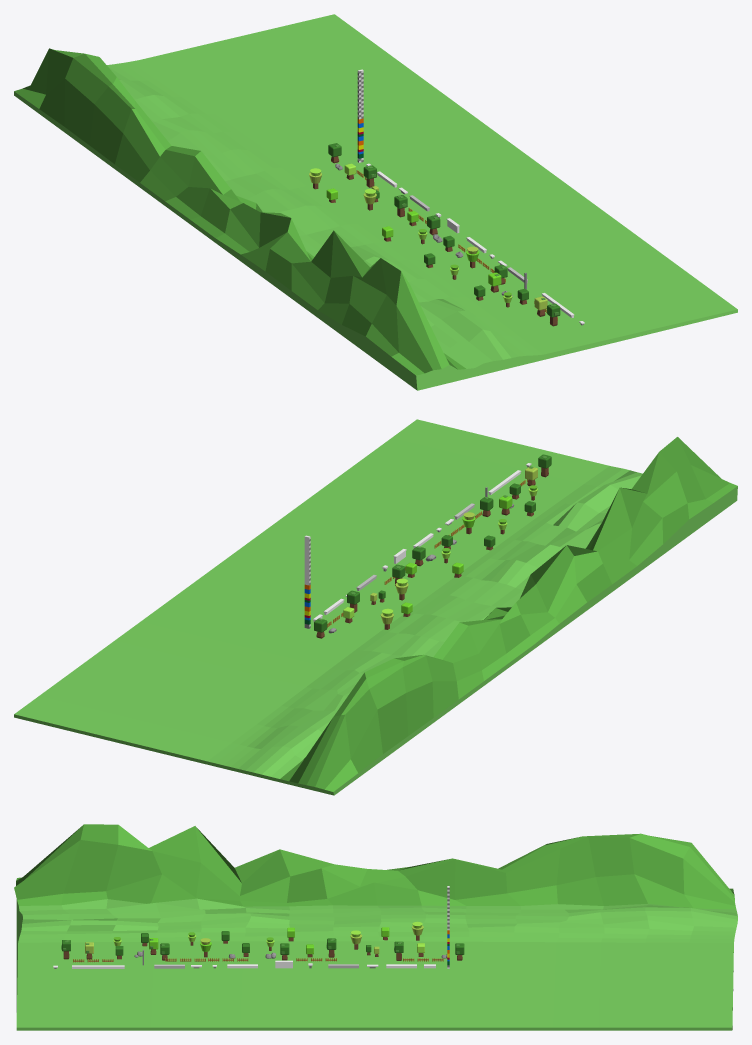
Rendered from Level1Map.fbx.
3 renders of one model, top to bottom at view 1: azimuth 30°, elevation 25°; view 2: azimuth 150°, elevation 25°; view 3: azimuth 270°, elevation 25°, orthographic. The views are drawn at different scales.
Parts seen in each view (by area): view 1: Cube.014, Cube.004; view 2: Cube.014, Cube.004; view 3: Cube.014, Cube.004.
Part boxes in pixels (box(x1,y1,x2,y2)): Cube.014: box(14, 14, 737, 390); Cube.004: box(14, 48, 465, 375); Cube.014: box(14, 419, 737, 795); Cube.004: box(280, 437, 737, 791); Cube.014: box(16, 898, 737, 1030); Cube.004: box(14, 824, 736, 909).
Bounding box in the file's own units: 41783 × 11979 × 91581.
